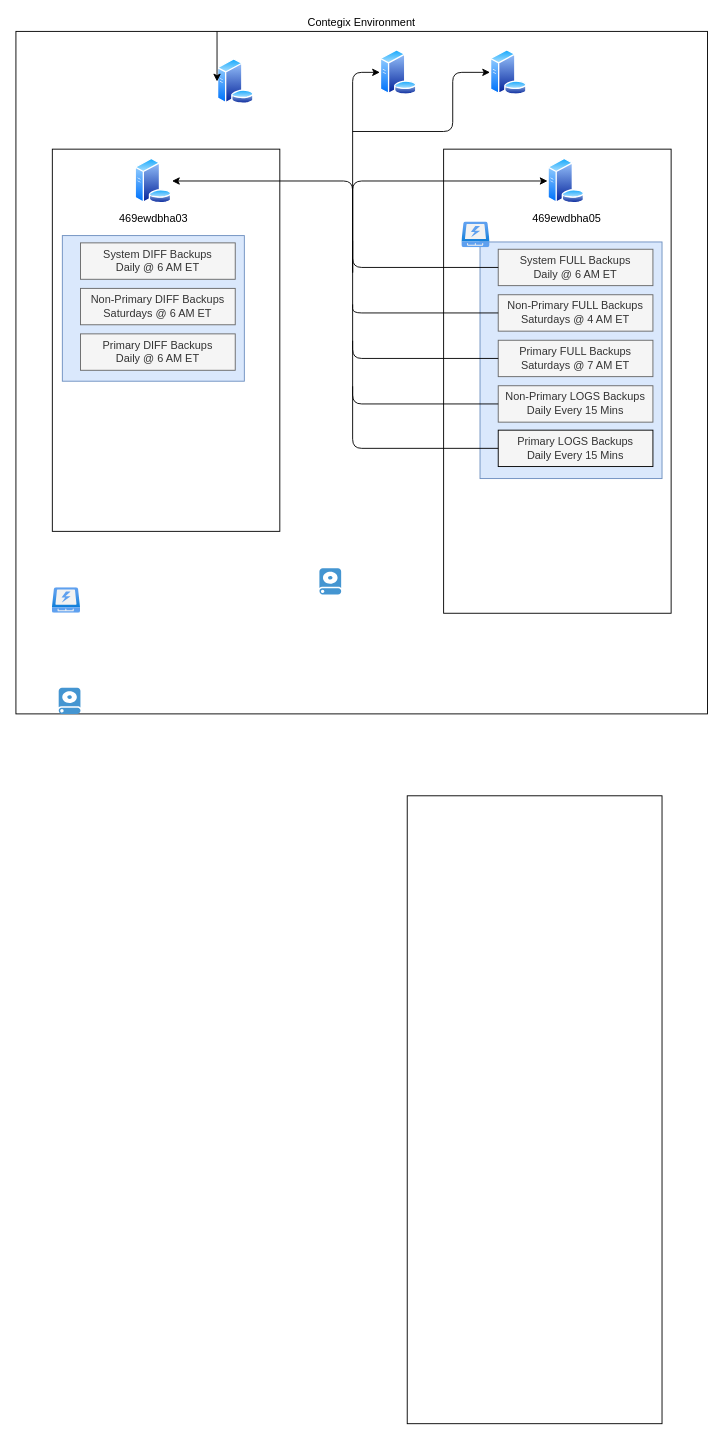
Image size: 723x1440. Some labels were removed from this diagram. The shapes that lost their labels are listed below. From the top down, each one's centre as x and y in pixels, then its label:
point (235, 81): 469ewdb14
point (398, 72): 469ewdbha01
point (508, 72): 469ewdbha02
point (475, 234): SSD D:\DB Backups
point (534, 1109): Azure Environment
